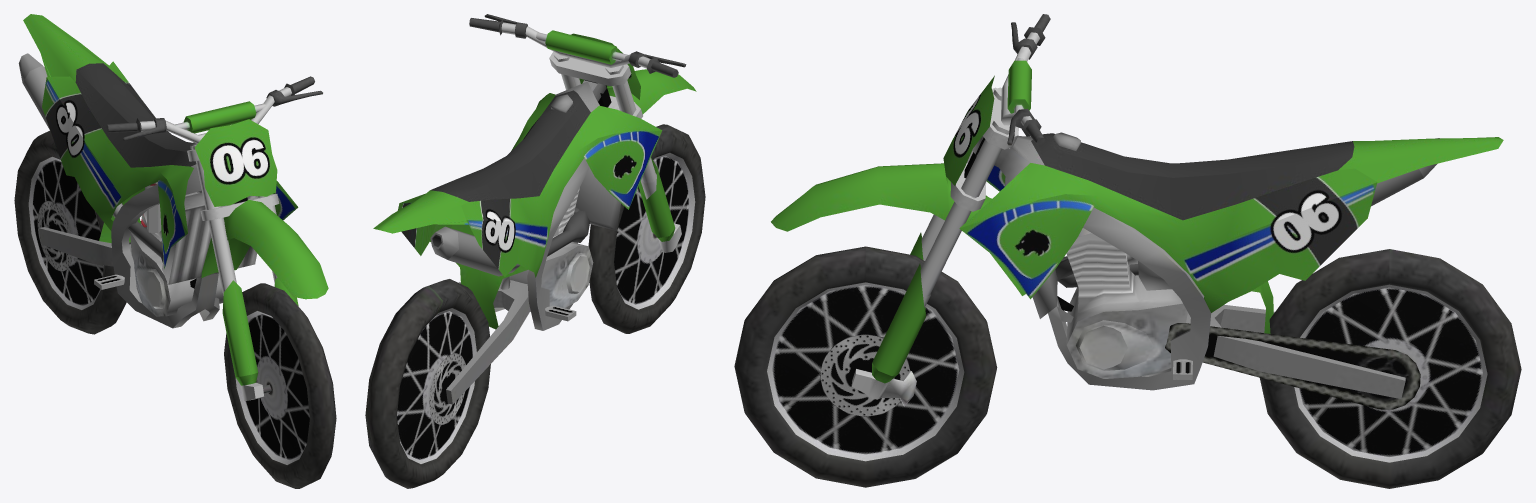
The model's file is dirtbike_green.glb.
3 views of the same model, side by side, from view 1: azimuth 30°, elevation 25°; view 2: azimuth 150°, elevation 25°; view 3: azimuth 270°, elevation 25° (orthographic). The views are drawn at different scales.
Parts seen in each view (by area): view 1: body, wheel_f, wheel_r; view 2: body, wheel_r, wheel_f; view 3: body, wheel_f, wheel_r.
Part boxes in pixels (left/top/right/bottom): body: left=18, top=14, right=328, bottom=400; wheel_f: left=224, top=283, right=336, bottom=488; wheel_r: left=14, top=130, right=130, bottom=334; body: left=373, top=14, right=696, bottom=404; wheel_r: left=365, top=279, right=490, bottom=488; wheel_f: left=588, top=124, right=705, bottom=333; body: left=771, top=14, right=1503, bottom=409; wheel_f: left=734, top=246, right=997, bottom=487; wheel_r: left=1260, top=249, right=1521, bottom=488.
Bounding box in the file's own units: 0.7842 × 1.21 × 2.09.
Materials: 1 (1 with a texture image).
